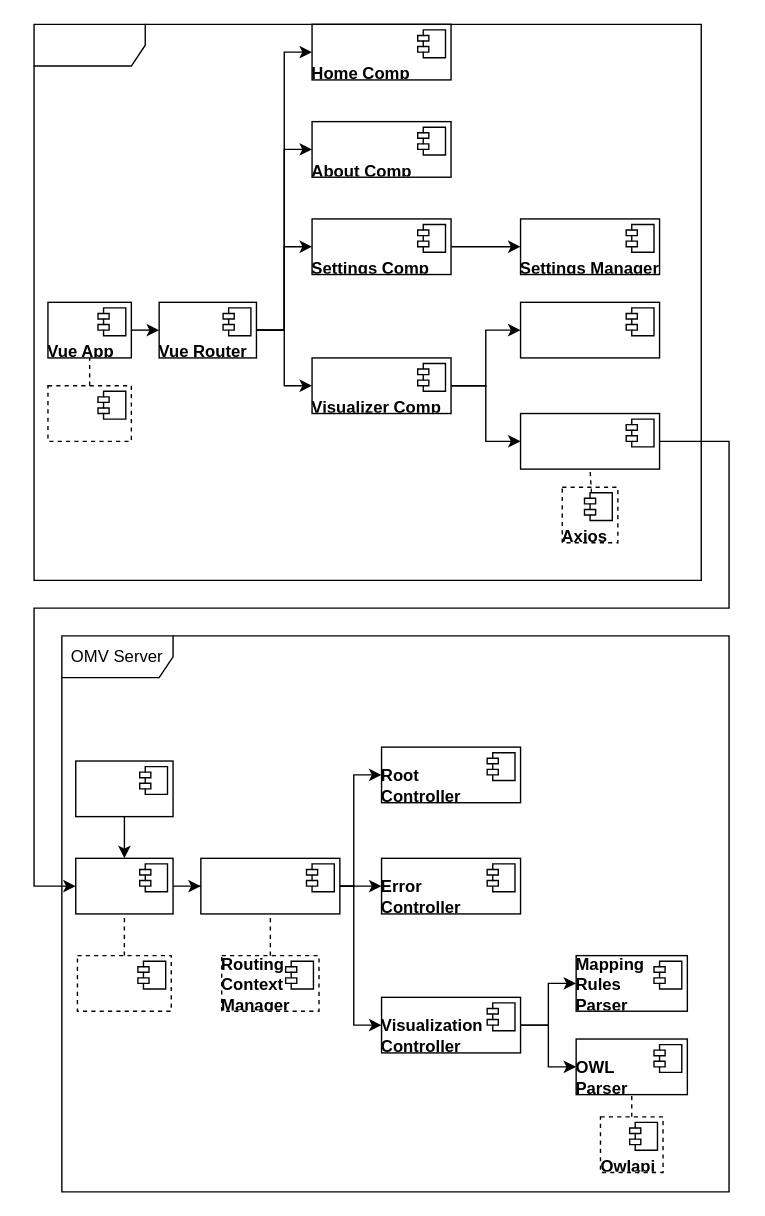
Image size: 765x1216. Some labels were removed from this diagram. Each missing label, with the box of its shape:
Api Consumer: (519, 412, 660, 469)
OMV Client: (33, 23, 701, 580)
Request Handler: (199, 857, 340, 914)
Vertx App: (74, 760, 173, 817)
Vertx Web: (76, 954, 171, 1011)
Visualization: (519, 301, 660, 358)
Vuetify: (47, 384, 131, 441)
Web Server: (74, 857, 173, 914)
